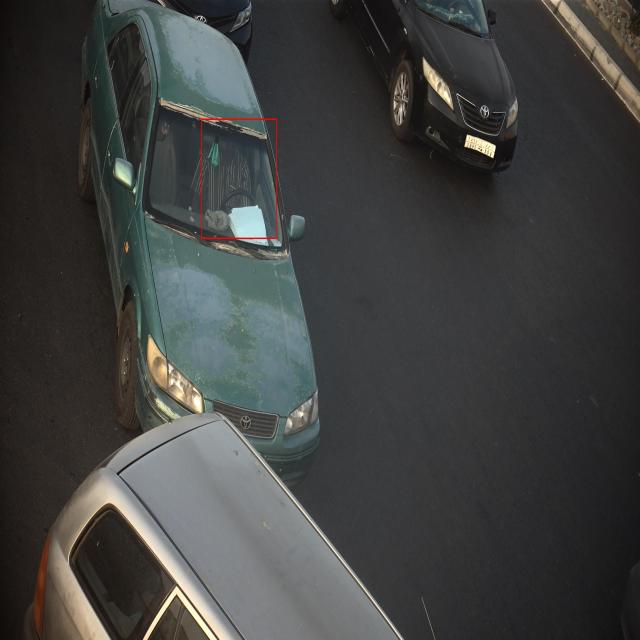windshield: (142, 87, 298, 275)
